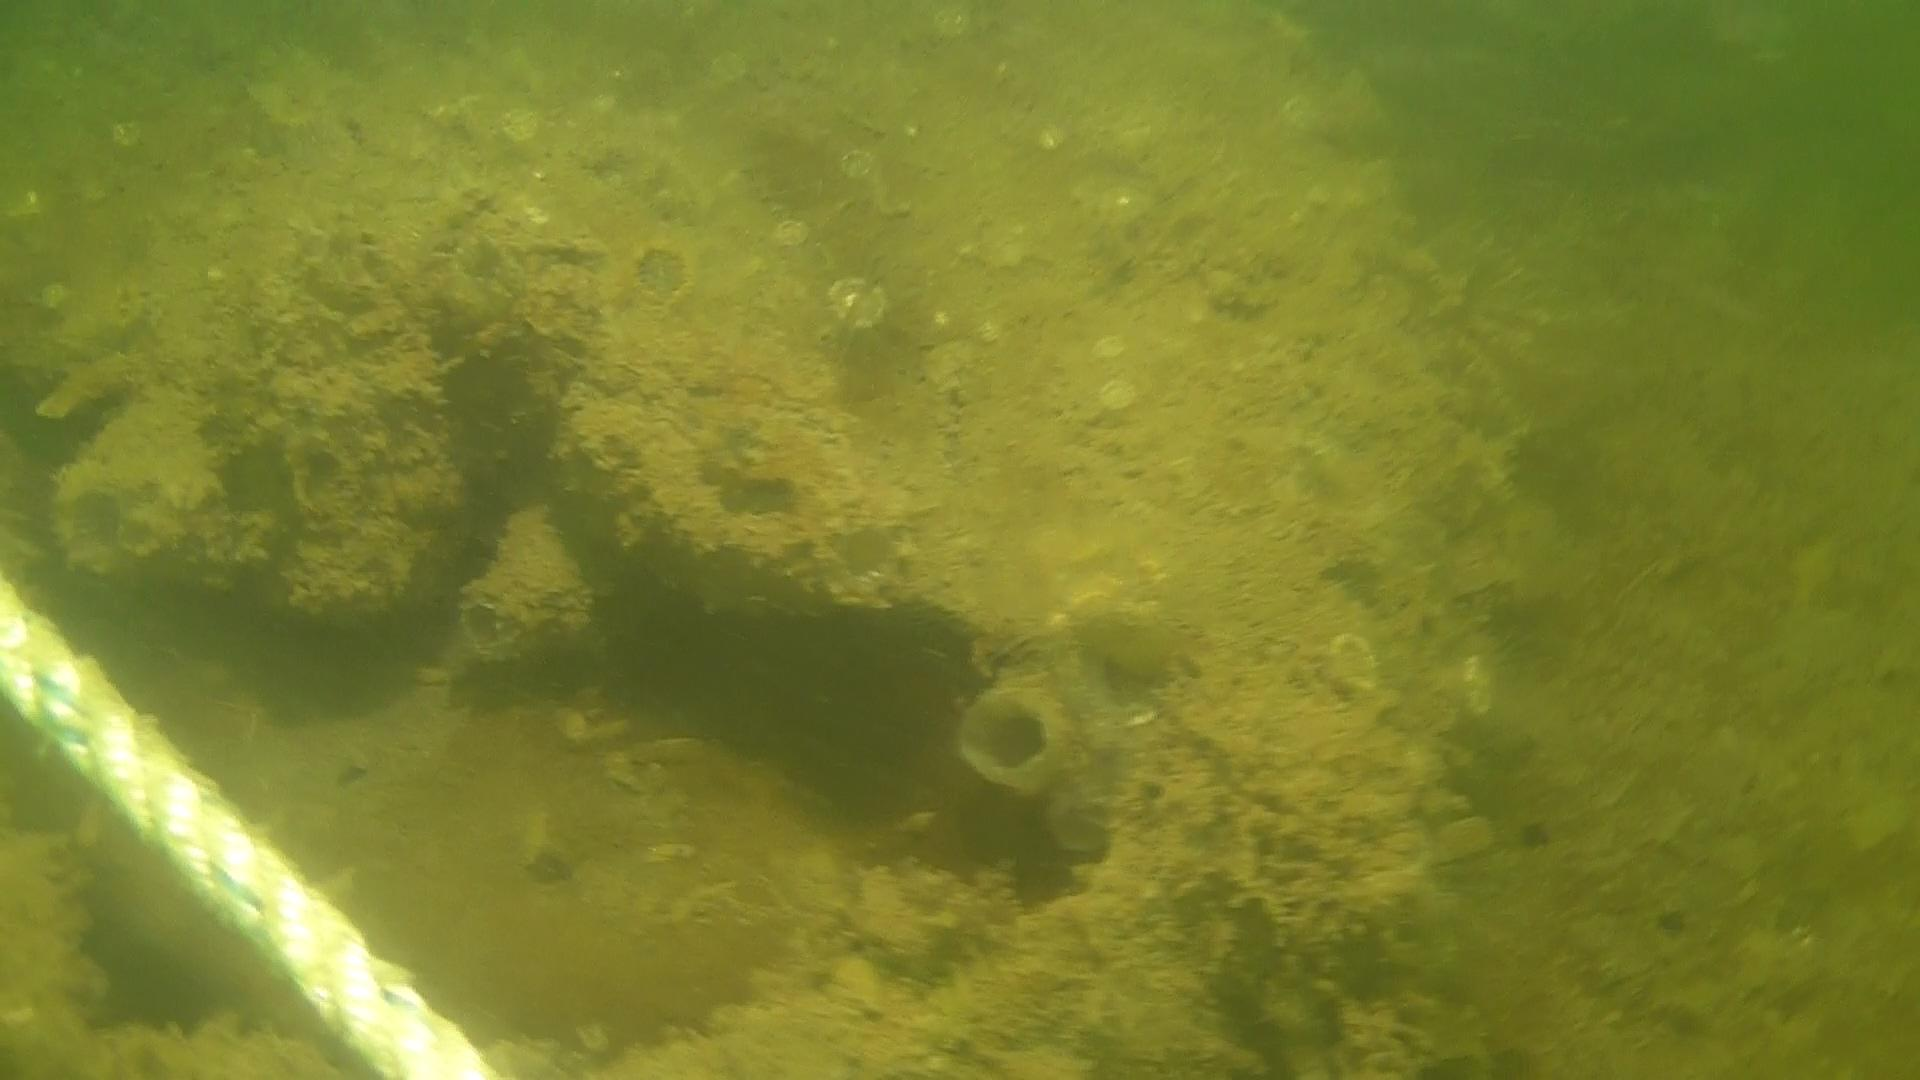rope: (0, 574, 506, 1080)
